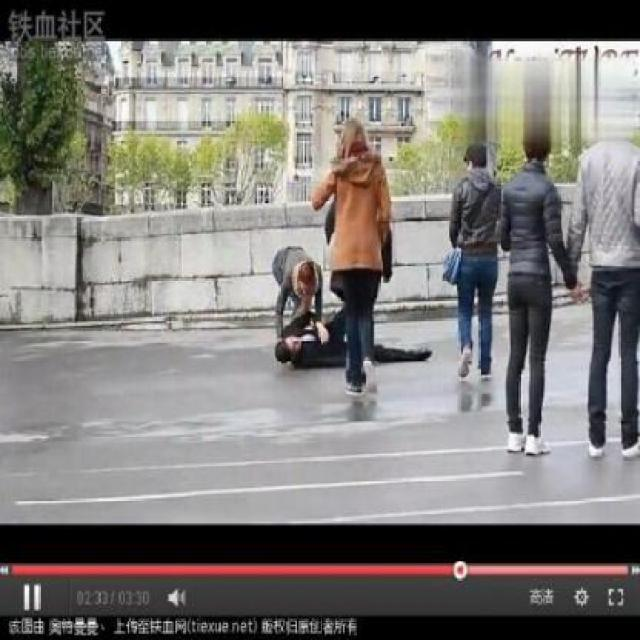fall: (262, 293, 430, 384)
